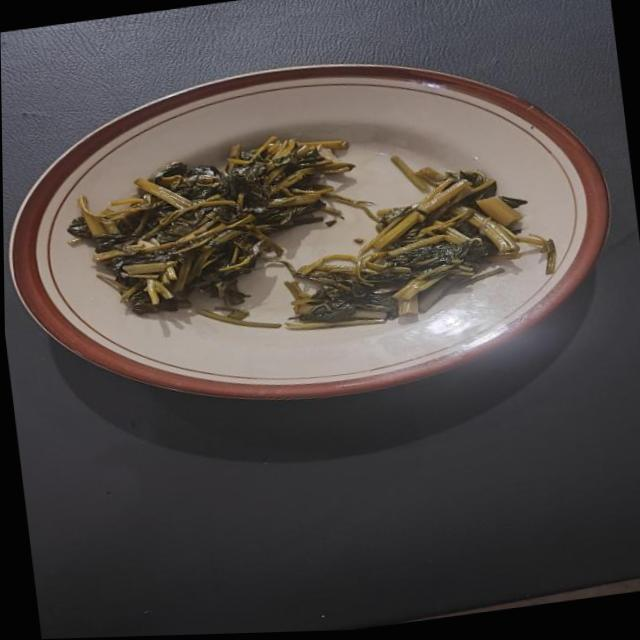tumis_kangkung: (68, 136, 354, 312), (282, 156, 556, 328)
